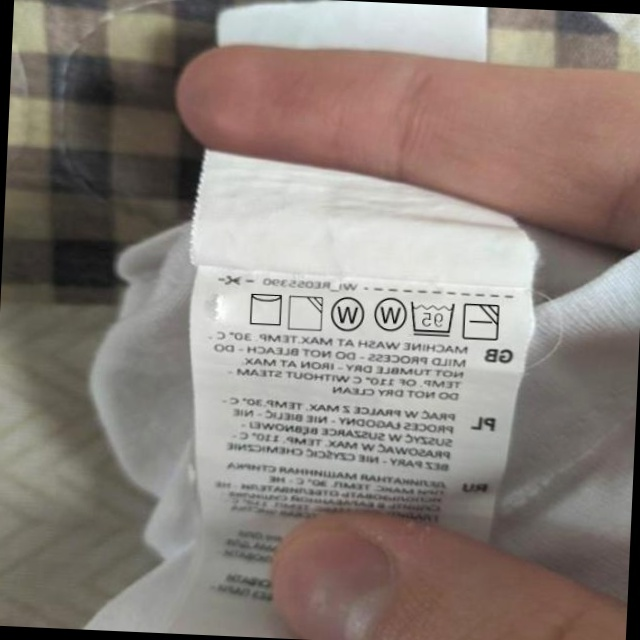95C: (407, 298, 457, 338)
dry_flat_in_shade: (461, 299, 502, 343)
line_dry: (245, 289, 285, 328)
shade_dry: (285, 292, 325, 333)
wet_clean: (328, 294, 366, 335), (370, 292, 407, 334)
